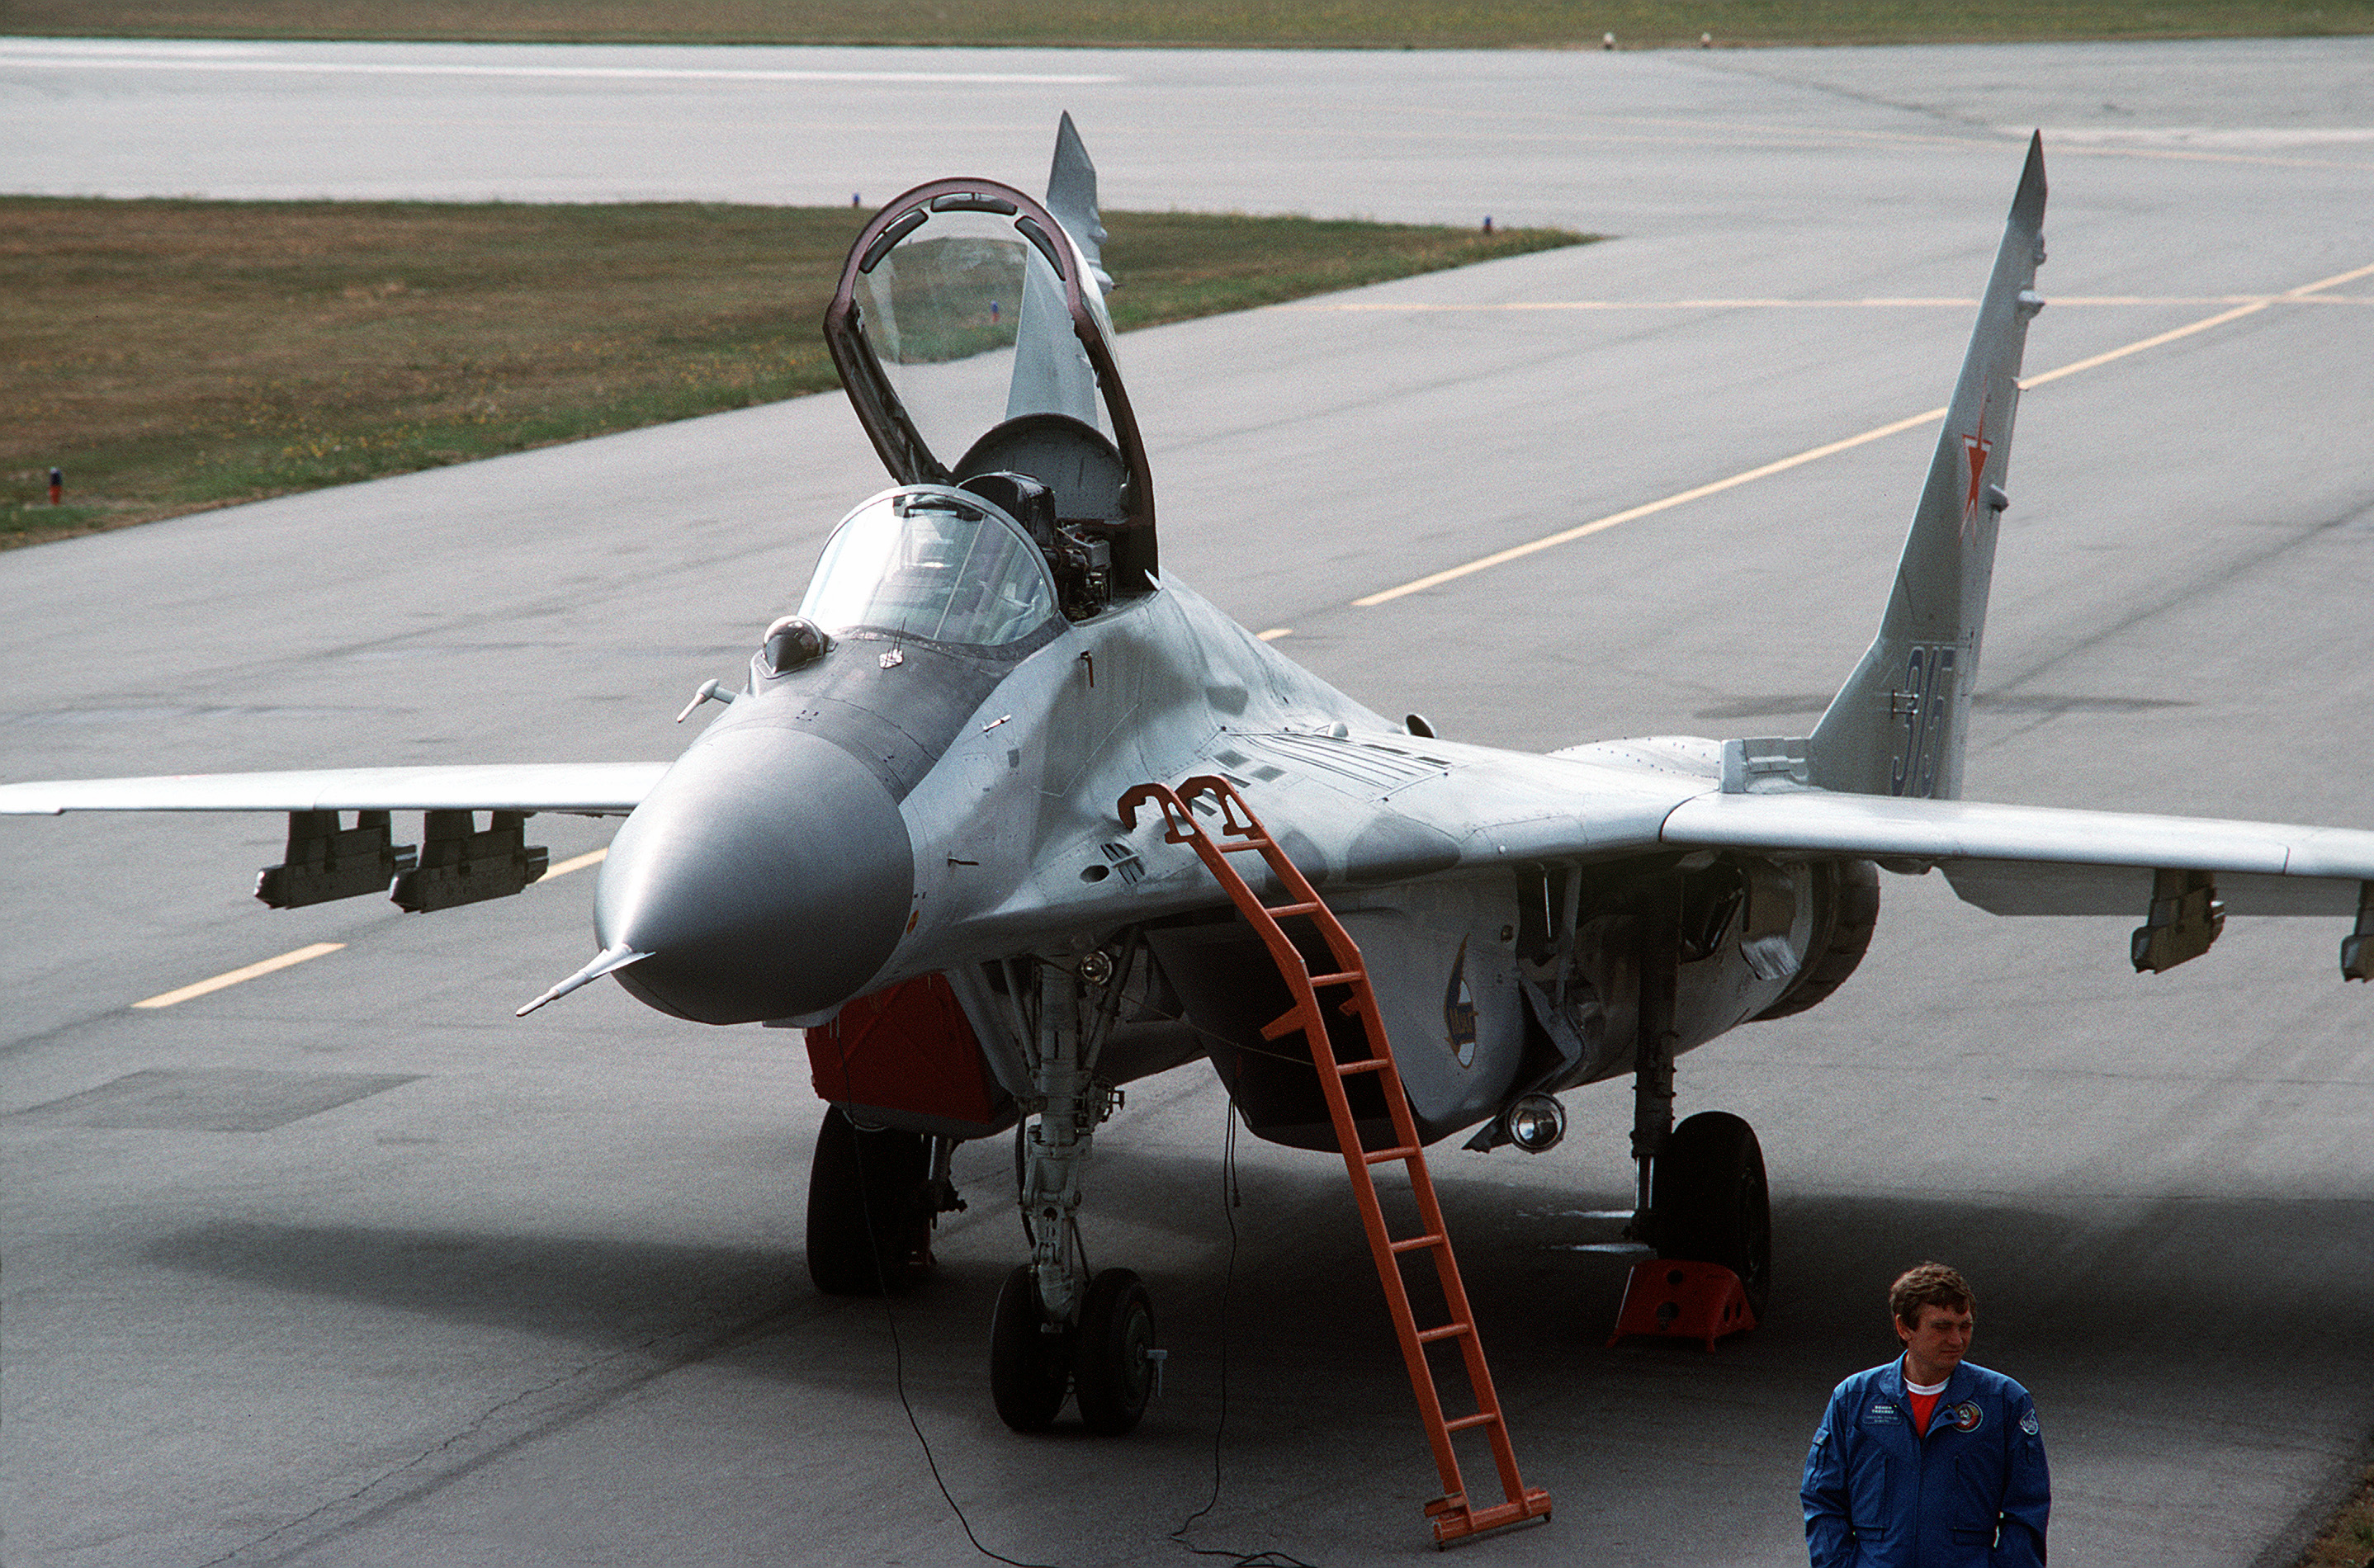Mig-29: (213, 68, 2169, 1414)
